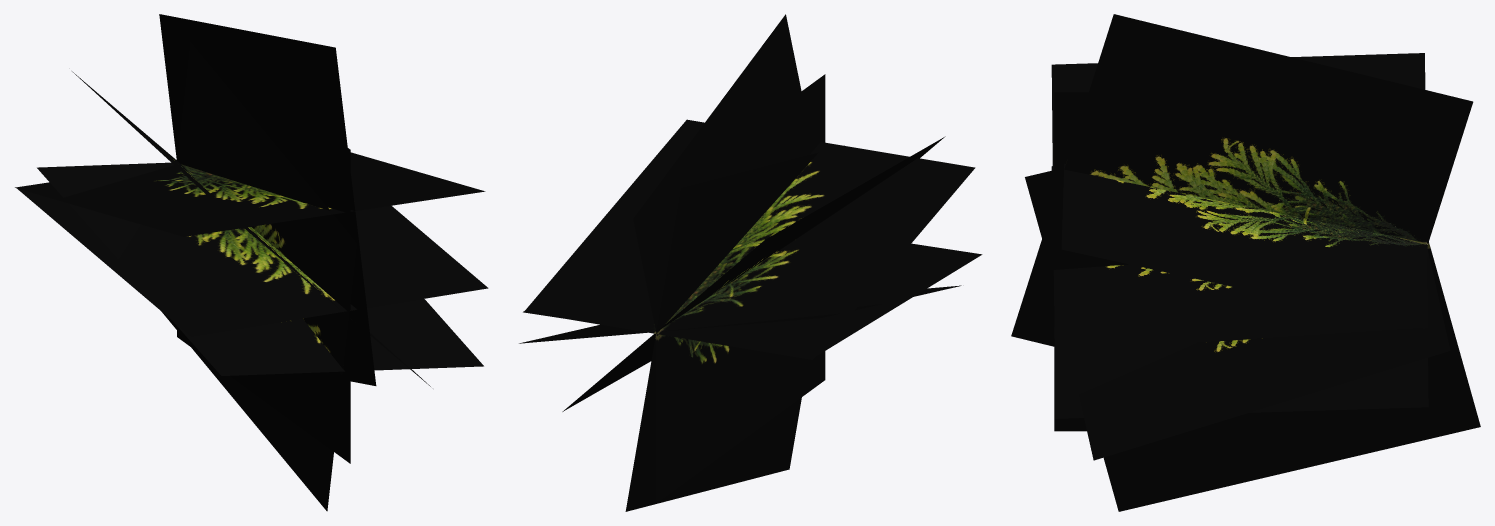
The model's file is BushJoel.obj.
The picture shows the model from 3 angles, left to right: view 1: azimuth 30°, elevation 25°; view 2: azimuth 150°, elevation 25°; view 3: azimuth 270°, elevation 25°; orthographic projection. The views are drawn at different scales.
Parts seen in each view (by area): view 1: Plane_Plane.001; view 2: Plane_Plane.001; view 3: Plane_Plane.001.
Boxes of the visible parts, x1=… form: Plane_Plane.001: x1=15, y1=14, x2=488, y2=511; Plane_Plane.001: x1=519, y1=14, x2=982, y2=511; Plane_Plane.001: x1=1011, y1=14, x2=1480, y2=511.
Bounding box in the file's own units: 209 × 296 × 251.
